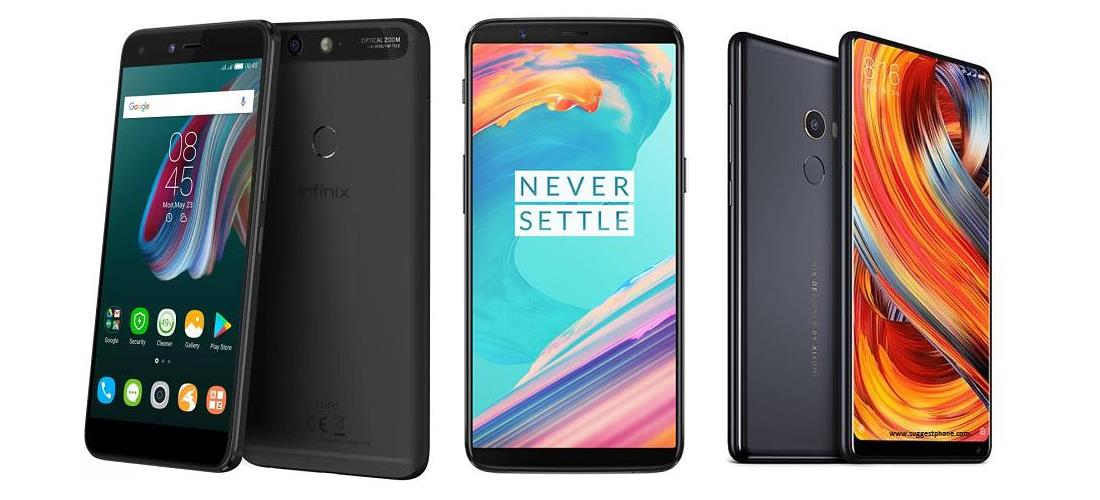mobile: (452, 9, 709, 499)
